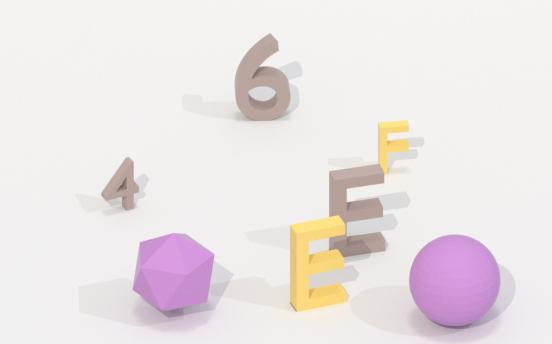4: (101, 153, 143, 213)
6: (233, 29, 295, 122)
E-hoa: (287, 212, 348, 314), (328, 166, 388, 259)
F: (407, 232, 503, 330), (376, 117, 414, 179)
dagiac: (132, 231, 217, 316)
